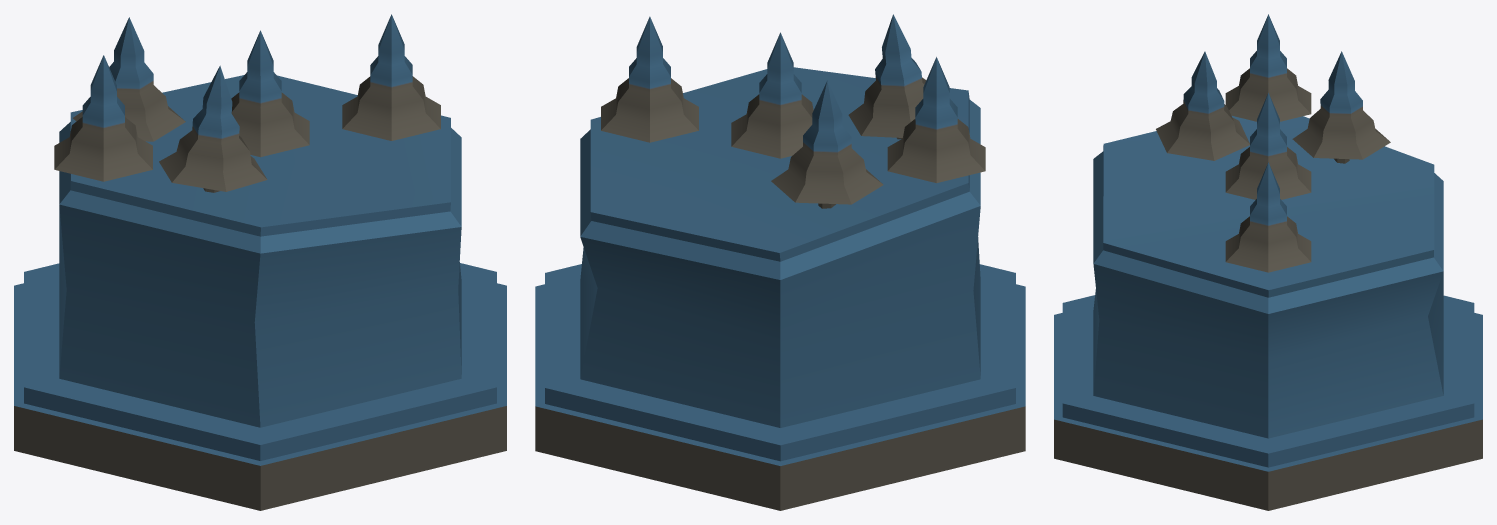
The model's file is StartTile.obj.
3 renders of one model, left to right at view 1: azimuth 30°, elevation 25°; view 2: azimuth 150°, elevation 25°; view 3: azimuth 270°, elevation 25°, orthographic. The views are drawn at different scales.
Visible parts, largest first — view 1: pCone6; view 2: pCone6; view 3: pCone6.
Part boxes in pixels (x1,y1,x2,y2): pCone6: (14, 14, 506, 510); pCone6: (535, 14, 1025, 510); pCone6: (1054, 14, 1482, 510).
Bounding box in the file's own units: 10 × 7.26 × 8.66.
